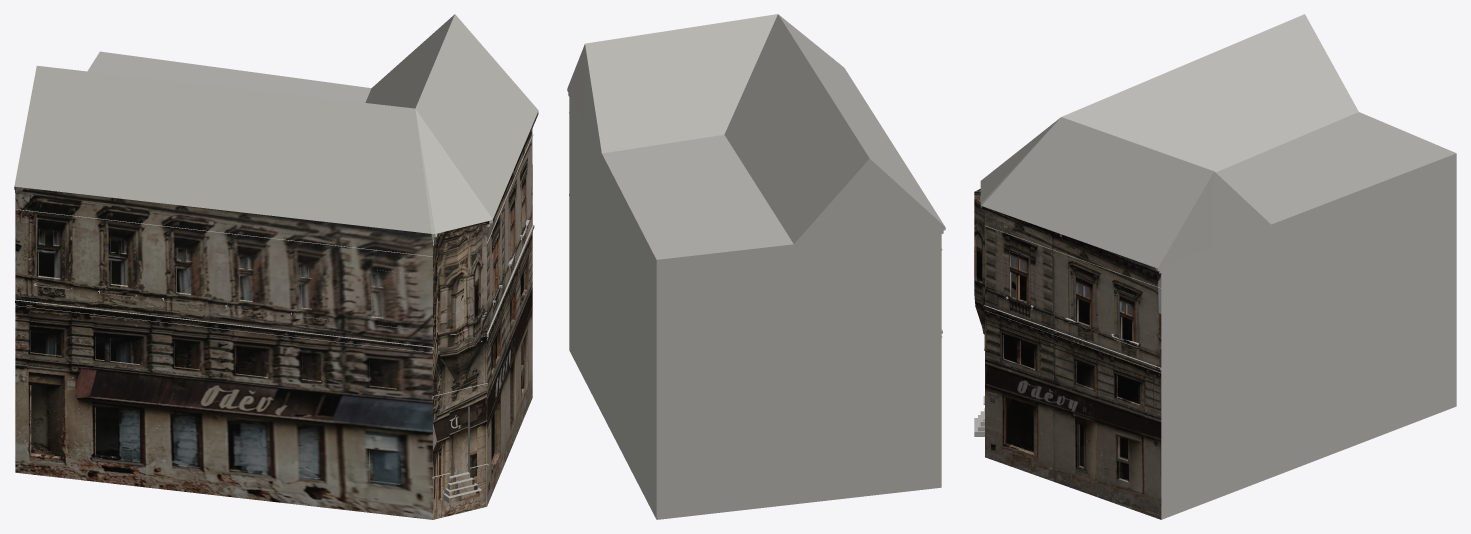
File: previous.glb
3 renders of one model, left to right at view 1: azimuth 30°, elevation 25°; view 2: azimuth 150°, elevation 25°; view 3: azimuth 270°, elevation 25°, orthographic. The views are drawn at different scales.
Parts seen in each view (by area): view 1: 174_000, B_opening_left_entry, B_opening_board3, B_ground_source_139, B_opening_board2, oriel_r24_wall_0, B_opening_shop_open, B_ground_source_70, B_ground_source_24, B_ground_source_116, B_ground_source_132, B_ground_source_168 (+37 smaller); view 2: 174_000; view 3: 174_000, A_ground_source_12, A_opening_left_shop, A_ground_source_26, A_ground_source_54, A_mezz_source_26, A_ground_source_9, A_ground_source_15, A_ground_source_20, A_ground_source_17, A_ground_source_29, A_ground_source_34 (+7 smaller).
Part boxes in pixels (box(x1,y1,x2,y2)): 174_000: box(14, 14, 538, 519); B_opening_left_entry: box(31, 385, 60, 456); B_opening_board3: box(231, 421, 268, 473); B_ground_source_139: box(321, 444, 368, 481); B_opening_board2: box(173, 415, 199, 467); oriel_r24_wall_0: box(438, 234, 450, 343); B_opening_shop_open: box(96, 407, 118, 456); B_ground_source_70: box(140, 424, 173, 459); B_ground_source_24: box(61, 415, 94, 450); B_ground_source_116: box(268, 439, 301, 473); B_ground_source_132: box(321, 396, 368, 422); B_ground_source_168: box(400, 453, 432, 488); 174_000: box(567, 14, 945, 519); 174_000: box(974, 14, 1456, 519); A_ground_source_12: box(1033, 377, 1076, 421); A_opening_left_shop: box(1006, 398, 1033, 452); A_ground_source_26: box(1083, 394, 1117, 435); A_ground_source_54: box(1128, 410, 1161, 451); A_mezz_source_26: box(1035, 346, 1075, 382); A_ground_source_9: box(1003, 366, 1033, 405); A_ground_source_15: box(1033, 408, 1076, 443); A_ground_source_20: box(1033, 455, 1076, 489); A_ground_source_17: box(1033, 431, 1076, 464); A_ground_source_29: box(1083, 426, 1117, 457); A_ground_source_34: box(1083, 473, 1117, 504).
Bounding box in the file's own units: 21.93 × 16.6 × 22.12.
Materials: 12 (11 with a texture image).
